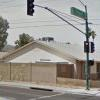Traffic light: (22, 0, 40, 18)
